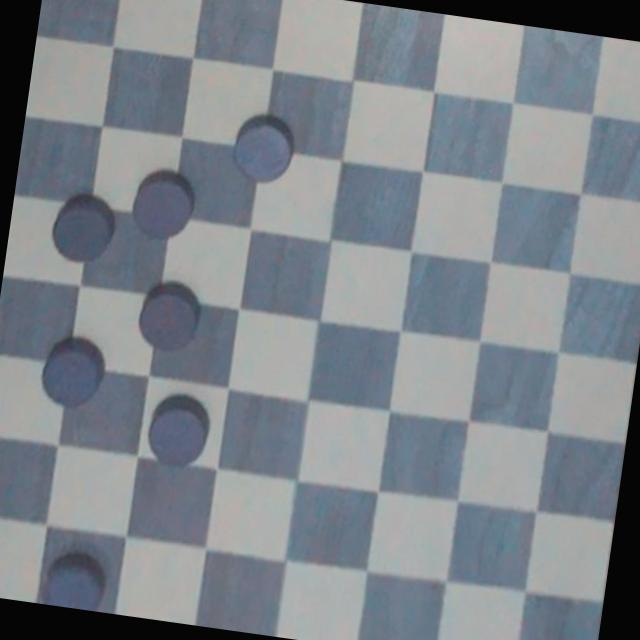BOARD: (0, 0, 640, 640)
black: (40, 178, 126, 272), (28, 324, 113, 416), (128, 162, 210, 250), (138, 388, 220, 472), (38, 528, 118, 614), (132, 274, 210, 358), (227, 108, 303, 188)
